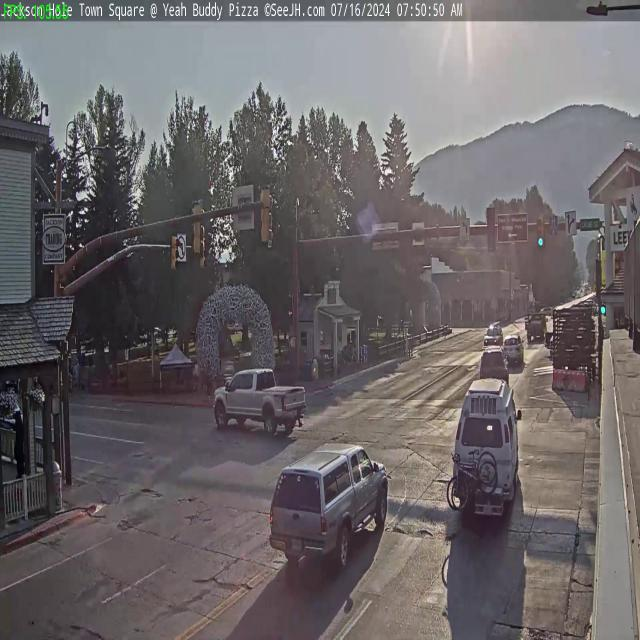bike: (446, 453, 498, 503)
pickup: (210, 367, 306, 437)
suv: (267, 438, 391, 570), (480, 346, 510, 385), (502, 333, 524, 366)
traffic light: (260, 184, 273, 244), (190, 199, 203, 257), (486, 208, 497, 254), (171, 234, 179, 271), (537, 215, 545, 248)
van: (449, 377, 519, 516)
